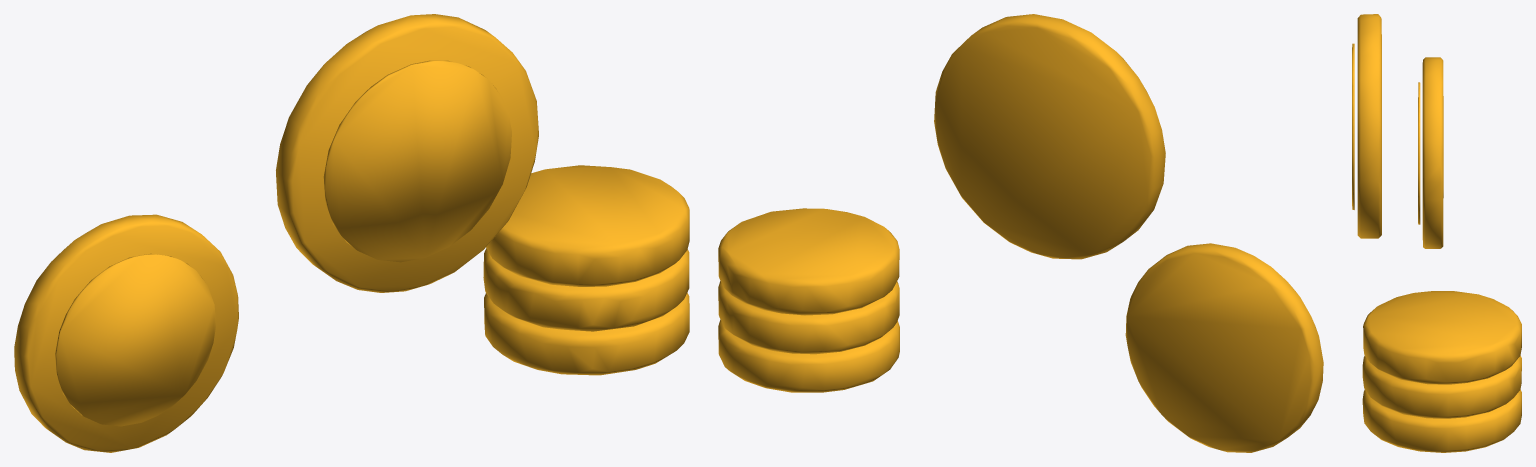
The model's file is loot-bag-gold.fbx.
3 renders of one model, left to right at view 1: azimuth 30°, elevation 25°; view 2: azimuth 150°, elevation 25°; view 3: azimuth 270°, elevation 25°, orthographic. The views are drawn at different scales.
Visible parts, largest first — view 1: Gold; view 2: Gold; view 3: Gold.
Part boxes in pixels (left/top/right/bottom): Gold: left=14, top=14, right=689, bottom=452; Gold: left=718, top=14, right=1323, bottom=452; Gold: left=1352, top=14, right=1521, bottom=452.
Size of the model in its own units: 287 by 166 by 82.21.
